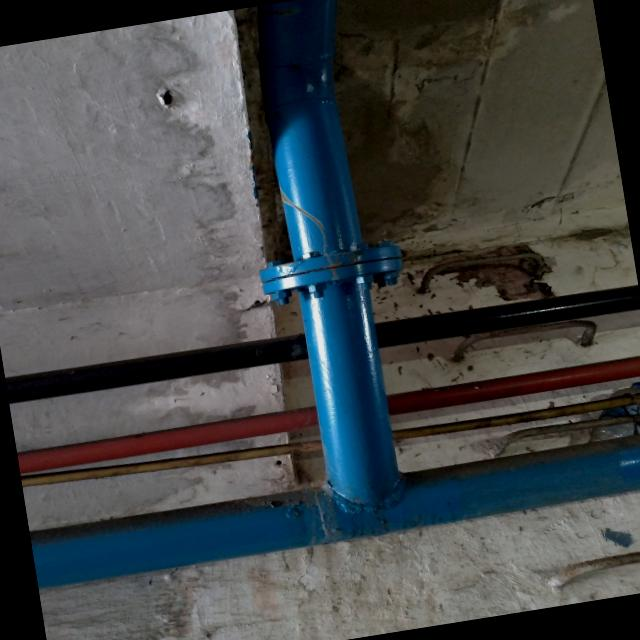gas: (29, 430, 640, 589), (5, 277, 640, 409), (17, 352, 640, 478), (259, 92, 407, 514)
